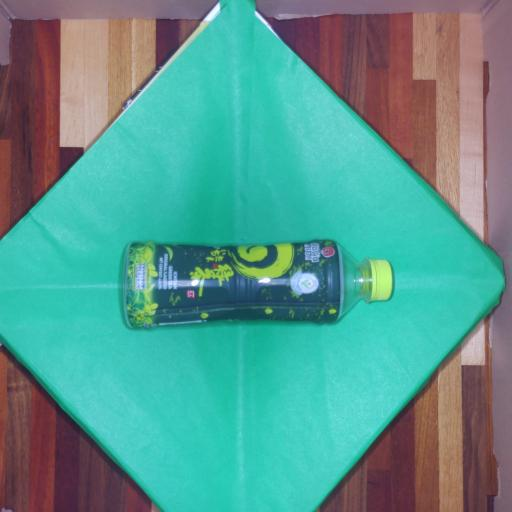bottle: (91, 211, 418, 345)
